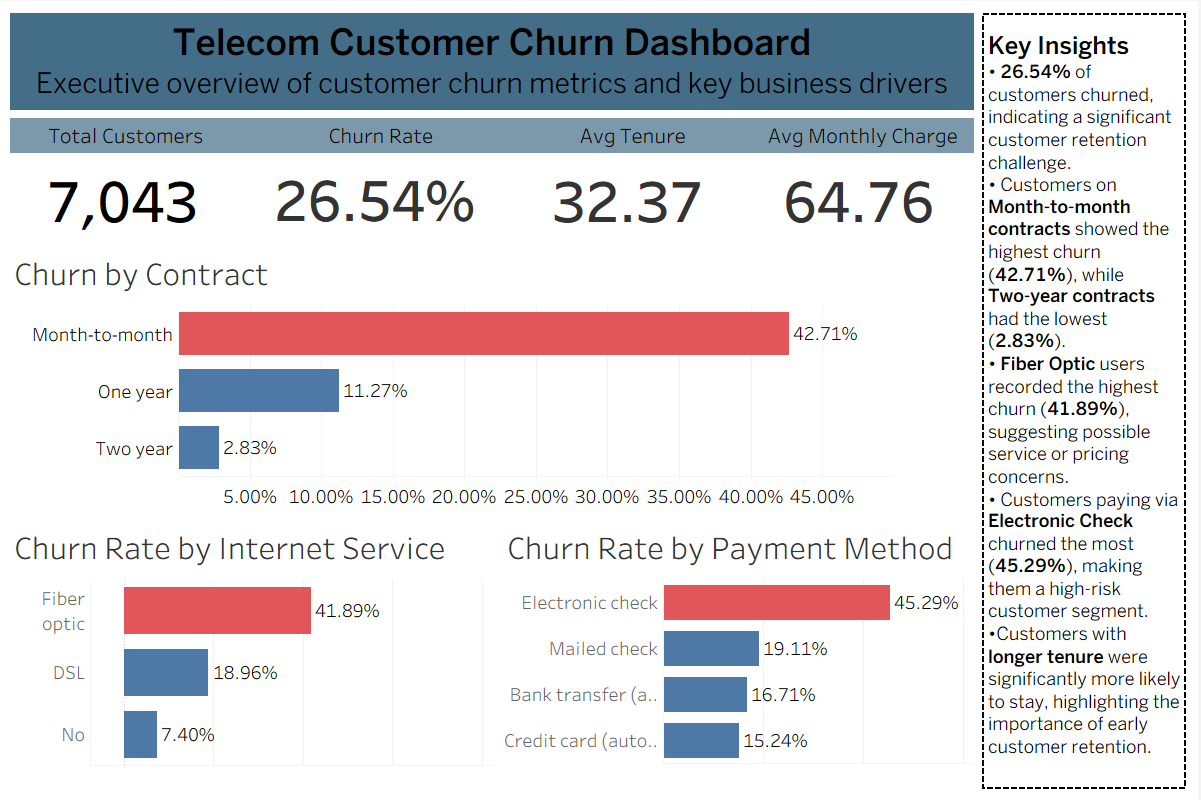

The dashboard page shown, as its layout file describes it:
{"tool":"tableau","page":{"name":"Excecutive overview","canvas":[1200,800],"ordinal":0},"visuals":[{"type":"title","box":[8,8,972,105]},{"type":"text","box":[980,8,212,784]},{"type":"text","box":[8,113,972,43]},{"type":"worksheet","title":"Total Customers","mark":"Automatic","box":[8,156,243,87]},{"type":"worksheet","title":"Churn Rate","mark":"Automatic","box":[251,156,243,87]},{"type":"worksheet","title":"Avg Tenure","mark":"Automatic","box":[494,156,243,87]},{"type":"worksheet","title":"Avg Monthly Charges","mark":"Automatic","box":[737,156,243,87]},{"type":"worksheet","title":"Churn by Contract","mark":"Automatic","rows":["Contract (customer_churn_cleaned1)"],"cols":["Calculation_0830986804342786"],"box":[8,243,972,274.5]},{"type":"worksheet","title":"Churn Rate by Internet Service","mark":"Automatic","rows":["InternetService (customer_churn_cleaned1)"],"cols":["Calculation_0830986804342786"],"box":[8,517.5,493,274.5]},{"type":"worksheet","title":"Churn Rate by Payment Method","mark":"Automatic","rows":["PaymentMethod (customer_churn_cleaned1)"],"cols":["Calculation_0830986804342786"],"box":[501,517.5,479,274.5]}]}

Visuals, with their boxes in screenshot pixels (x1, y1, x2, y2), scaled from the page's 1200x800 canvas onto the 1201x800 screenshot:
title: <box>8,8,981,113</box>
text: <box>981,8,1193,792</box>
text: <box>8,113,981,156</box>
"Total Customers" worksheet: <box>8,156,251,243</box>
"Churn Rate" worksheet: <box>251,156,494,243</box>
"Avg Tenure" worksheet: <box>494,156,738,243</box>
"Avg Monthly Charges" worksheet: <box>738,156,981,243</box>
"Churn by Contract" worksheet: <box>8,243,981,518</box>
"Churn Rate by Internet Service" worksheet: <box>8,518,501,792</box>
"Churn Rate by Payment Method" worksheet: <box>501,518,981,792</box>
